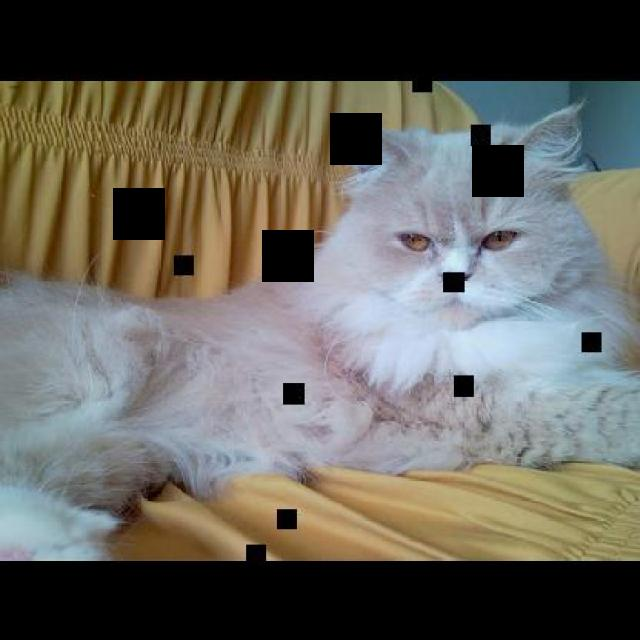unauthorized: (0, 95, 638, 558)
